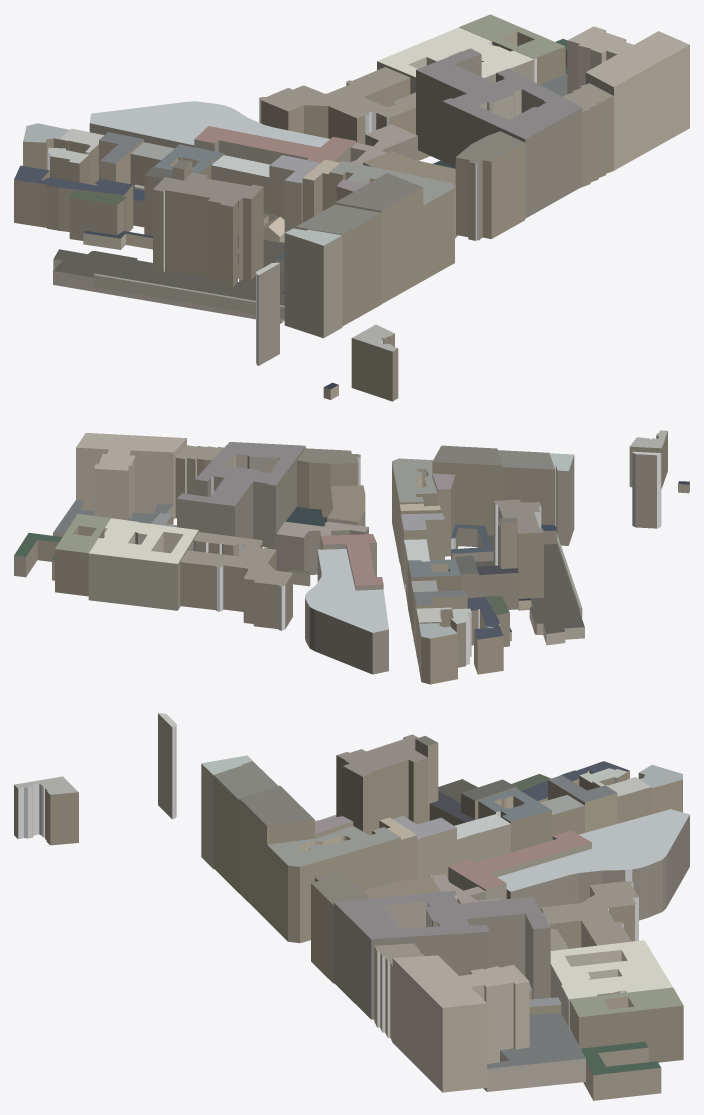
The picture shows the model from 3 angles, top to bottom: view 1: azimuth 30°, elevation 25°; view 2: azimuth 150°, elevation 25°; view 3: azimuth 270°, elevation 25°; orthographic projection. The views are drawn at different scales.
Visible parts, largest first — view 1: tuile; view 2: tuile; view 3: tuile.
Boxes of the visible parts, box(x1,y1,x2,y2) form: tuile: box(14, 14, 689, 401); tuile: box(14, 430, 689, 684); tuile: box(14, 713, 689, 1100).
Size of the model in its own units: 294 by 48.04 by 271.
